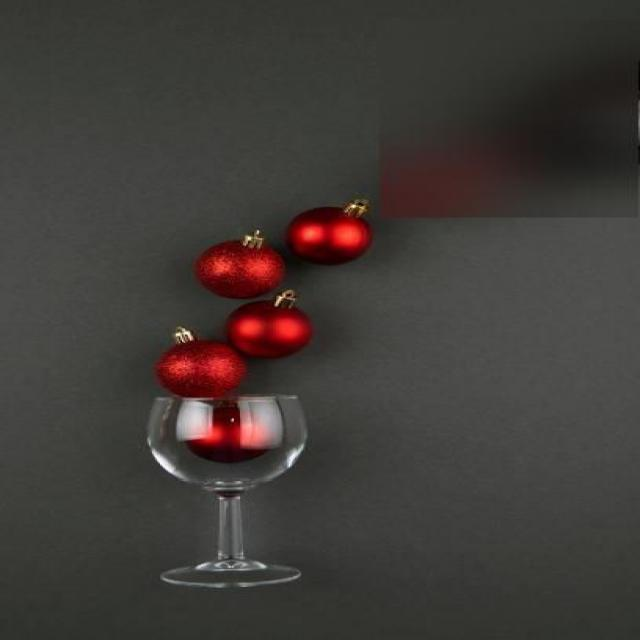glass-wine: (144, 392, 309, 589)
